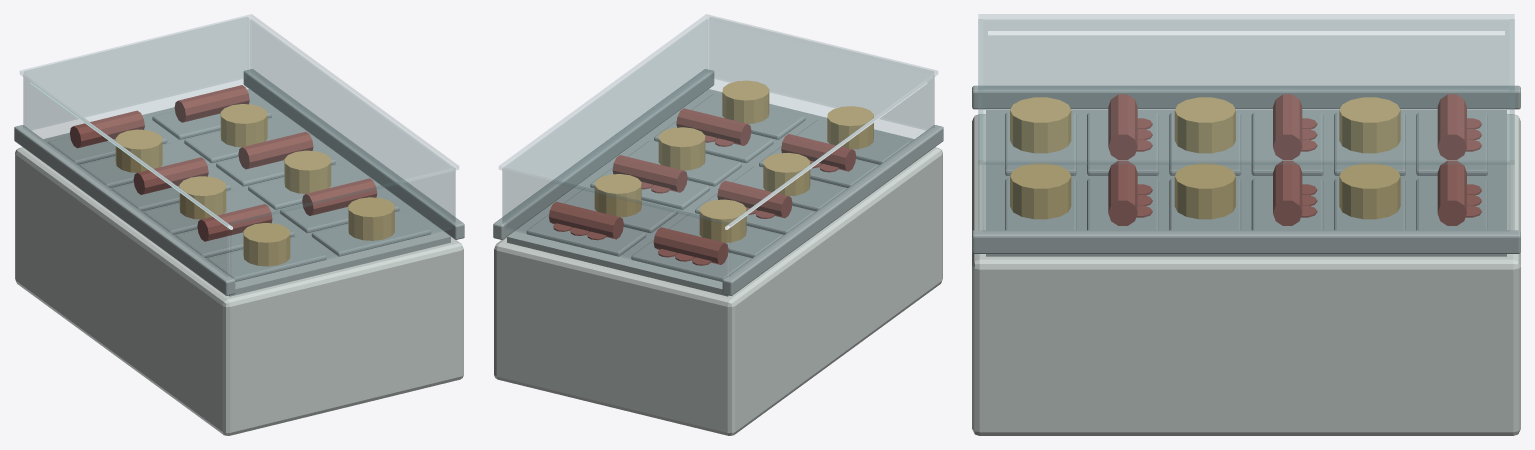
File: deli.glb
3 views of the same model, side by side, from view 1: azimuth 30°, elevation 25°; view 2: azimuth 150°, elevation 25°; view 3: azimuth 270°, elevation 25° (orthographic). The views are drawn at different scales.
Visible parts, largest first — view 1: deli_fixture_Smoked glass approximation, deli_fixture_Refrigerator enamel, deli_fixture_Brushed stainless, deli_detail_cheese, deli_detail_Butchery tray product, deli_fixture_Cabinet LED; view 2: deli_fixture_Smoked glass approximation, deli_fixture_Refrigerator enamel, deli_fixture_Brushed stainless, deli_detail_cheese, deli_detail_Butchery tray product, deli_micro_Butchery tray product, deli_fixture_Cabinet LED; view 3: deli_fixture_Smoked glass approximation, deli_fixture_Refrigerator enamel, deli_fixture_Brushed stainless, deli_detail_cheese, deli_detail_Butchery tray product, deli_micro_Butchery tray product, deli_fixture_Cabinet LED.
Part boxes in pixels (<box>): deli_fixture_Smoked glass approximation: <box>20,14,458,281</box>; deli_fixture_Refrigerator enamel: <box>15,98,463,435</box>; deli_fixture_Brushed stainless: <box>14,69,464,296</box>; deli_detail_cheese: <box>115,104,394,266</box>; deli_detail_Butchery tray product: <box>70,85,377,241</box>; deli_fixture_Cabinet LED: <box>30,80,232,229</box>; deli_fixture_Smoked glass approximation: <box>499,14,937,281</box>; deli_fixture_Refrigerator enamel: <box>494,98,942,435</box>; deli_fixture_Brushed stainless: <box>493,69,943,296</box>; deli_detail_cheese: <box>594,80,873,242</box>; deli_detail_Butchery tray product: <box>549,108,856,264</box>; deli_micro_Butchery tray product: <box>553,135,838,265</box>; deli_fixture_Cabinet LED: <box>725,80,927,229</box>; deli_fixture_Smoked glass approximation: <box>978,14,1514,230</box>; deli_fixture_Refrigerator enamel: <box>972,114,1520,435</box>; deli_fixture_Brushed stainless: <box>972,85,1520,256</box>; deli_detail_cheese: <box>1010,97,1400,219</box>; deli_detail_Butchery tray product: <box>1108,94,1466,225</box>; deli_micro_Butchery tray product: <box>1136,118,1481,217</box>; deli_fixture_Cabinet LED: <box>988,31,1504,35</box>.
Size of the model in its own units: 1.7 by 1.44 by 2.6.
